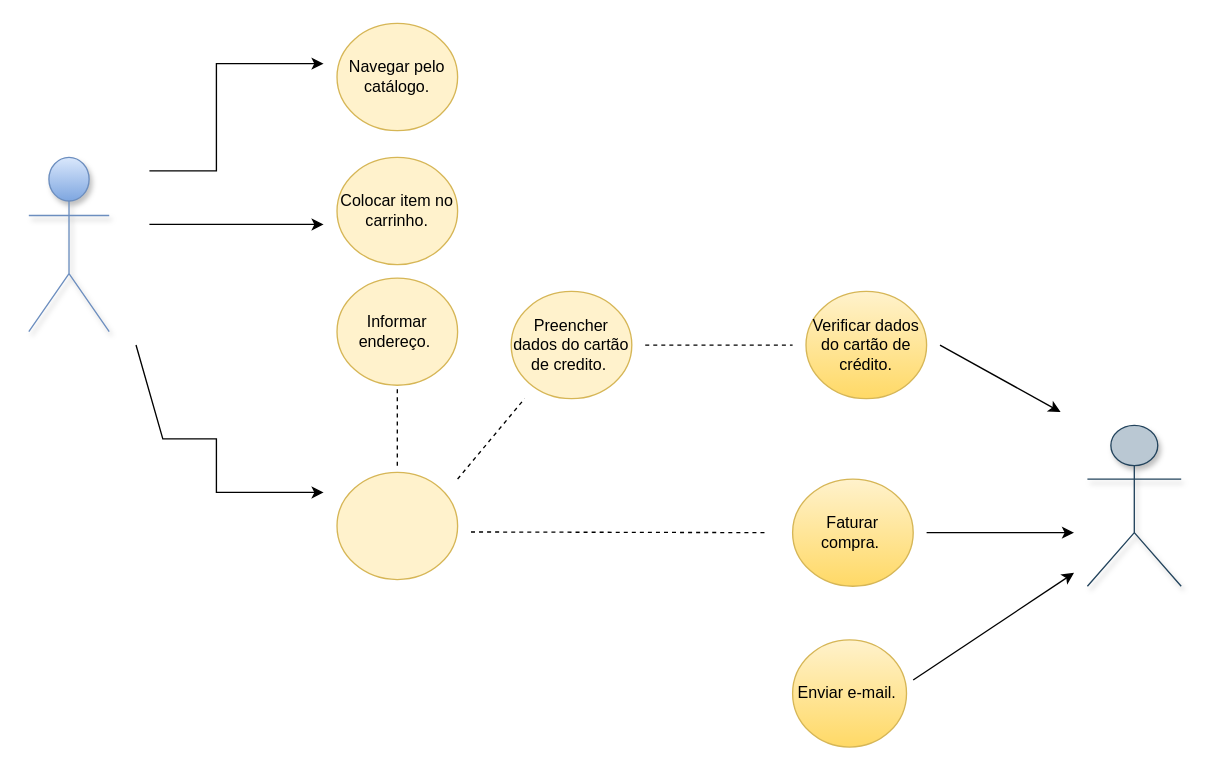
Some shapes in this 1213 by 771 pixel diagram are drawn without their labels. Here are the shapes that lost their labels. From the top down, the centre of each, then its label:
At pixel 69 246: "Cliente".
At pixel 397 525: "Finalizar compra.".
At pixel 1135 507: "Sistema".
